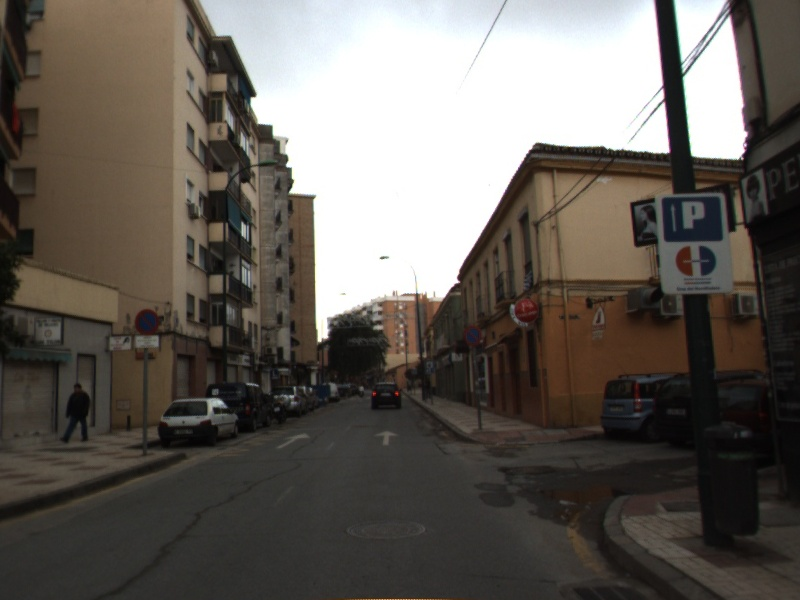STRAIGHT: (273, 431, 313, 451), (372, 428, 401, 448)
